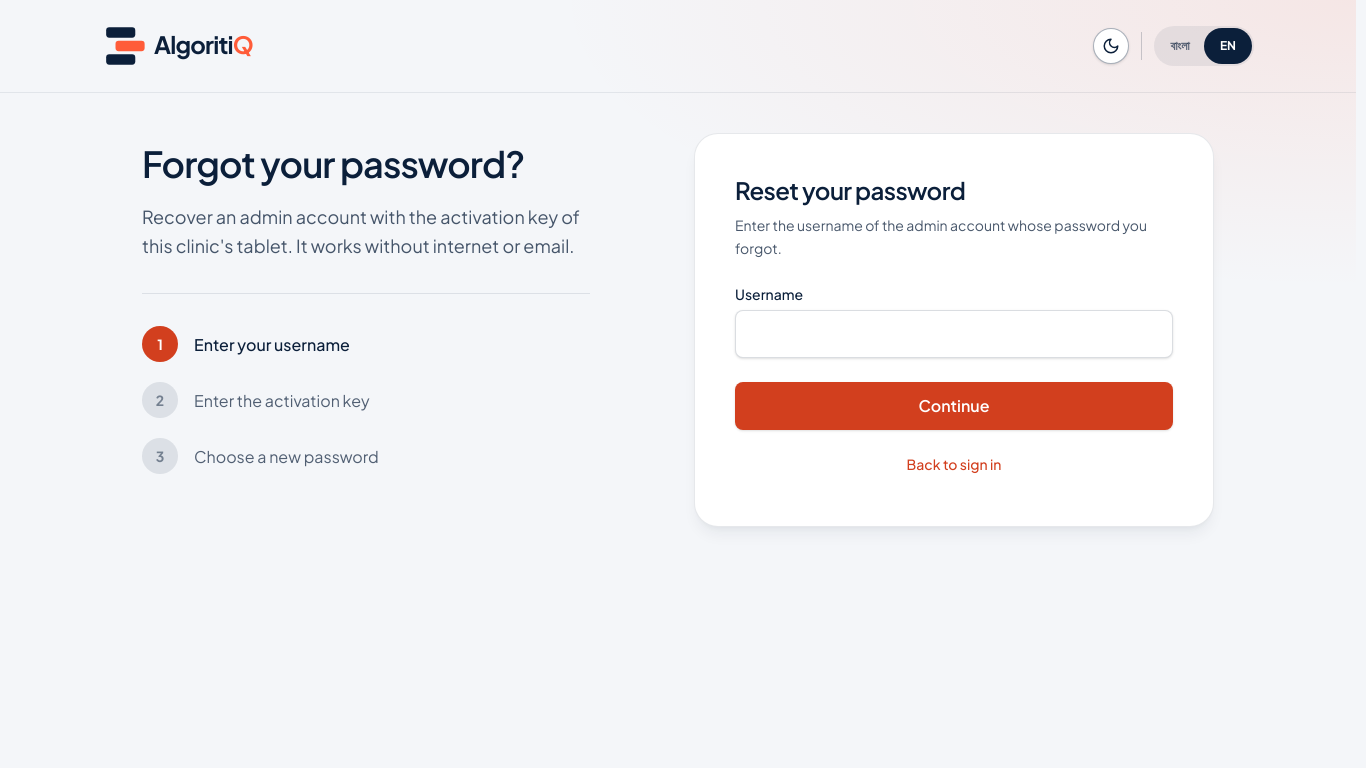
Scenario: forgot password › should start with the username and ask the tablet nothing yet
Type "Owner" into the field labelled "Username" at (954, 334), box top-left (735, 310), bottom-right (1173, 358)
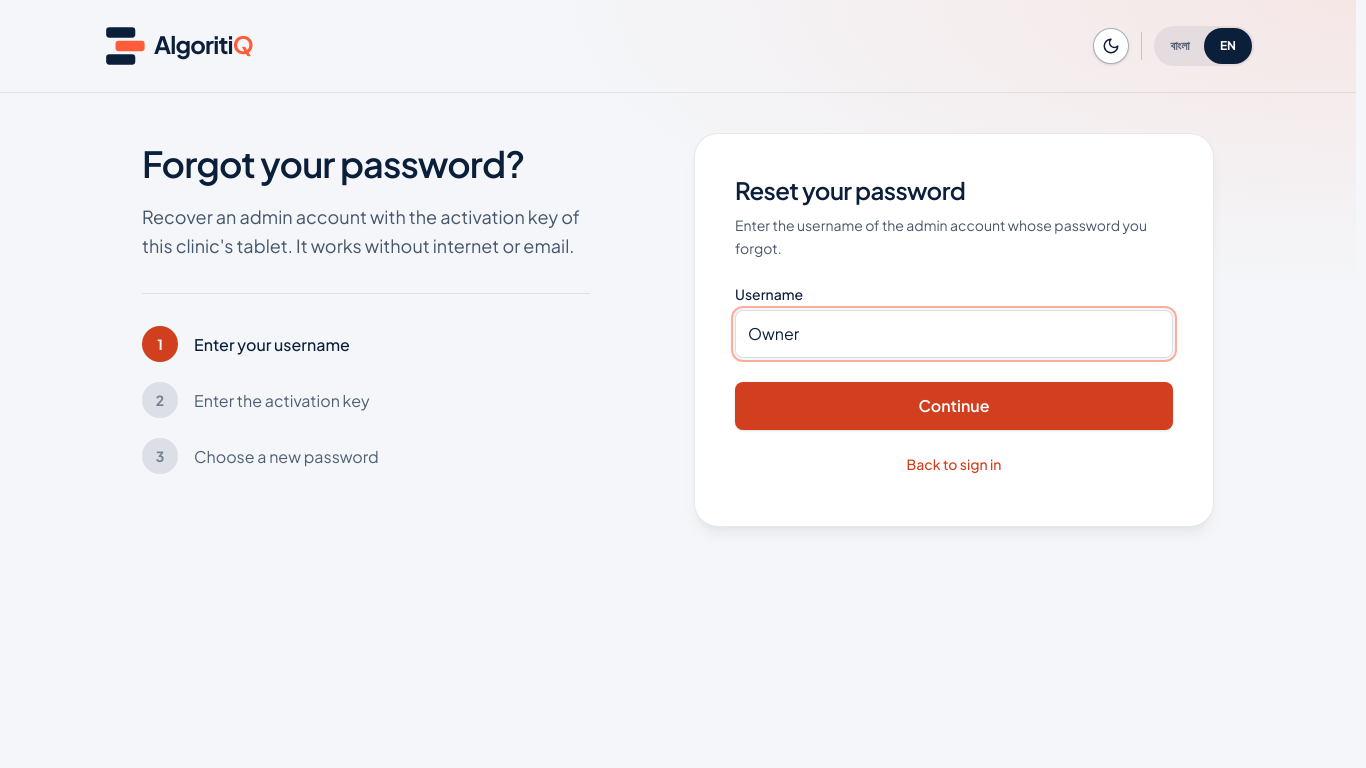
Click the button "Continue" at (954, 406), box top-left (735, 382), bottom-right (1173, 430)
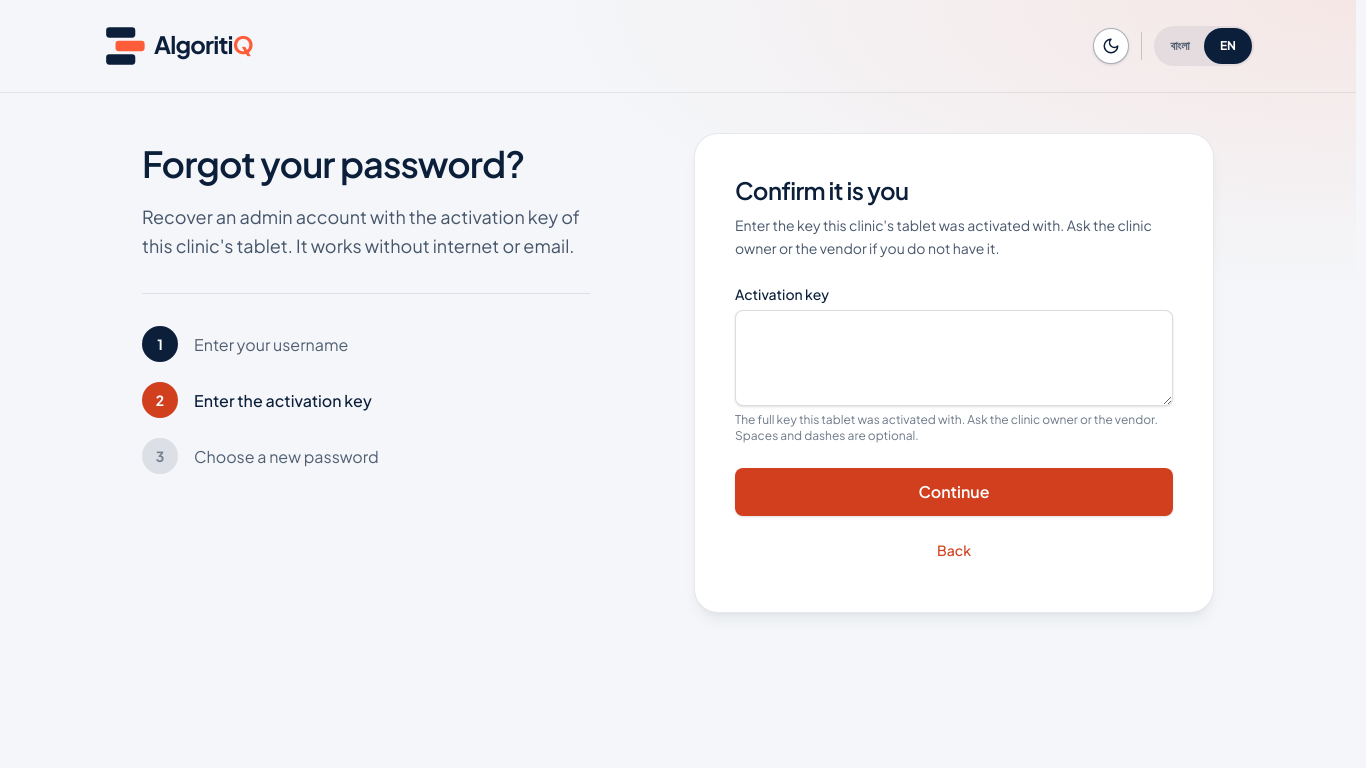
Expected: the text box labelled "Activation key" is shown, top-left (735, 310), bottom-right (1173, 406)
